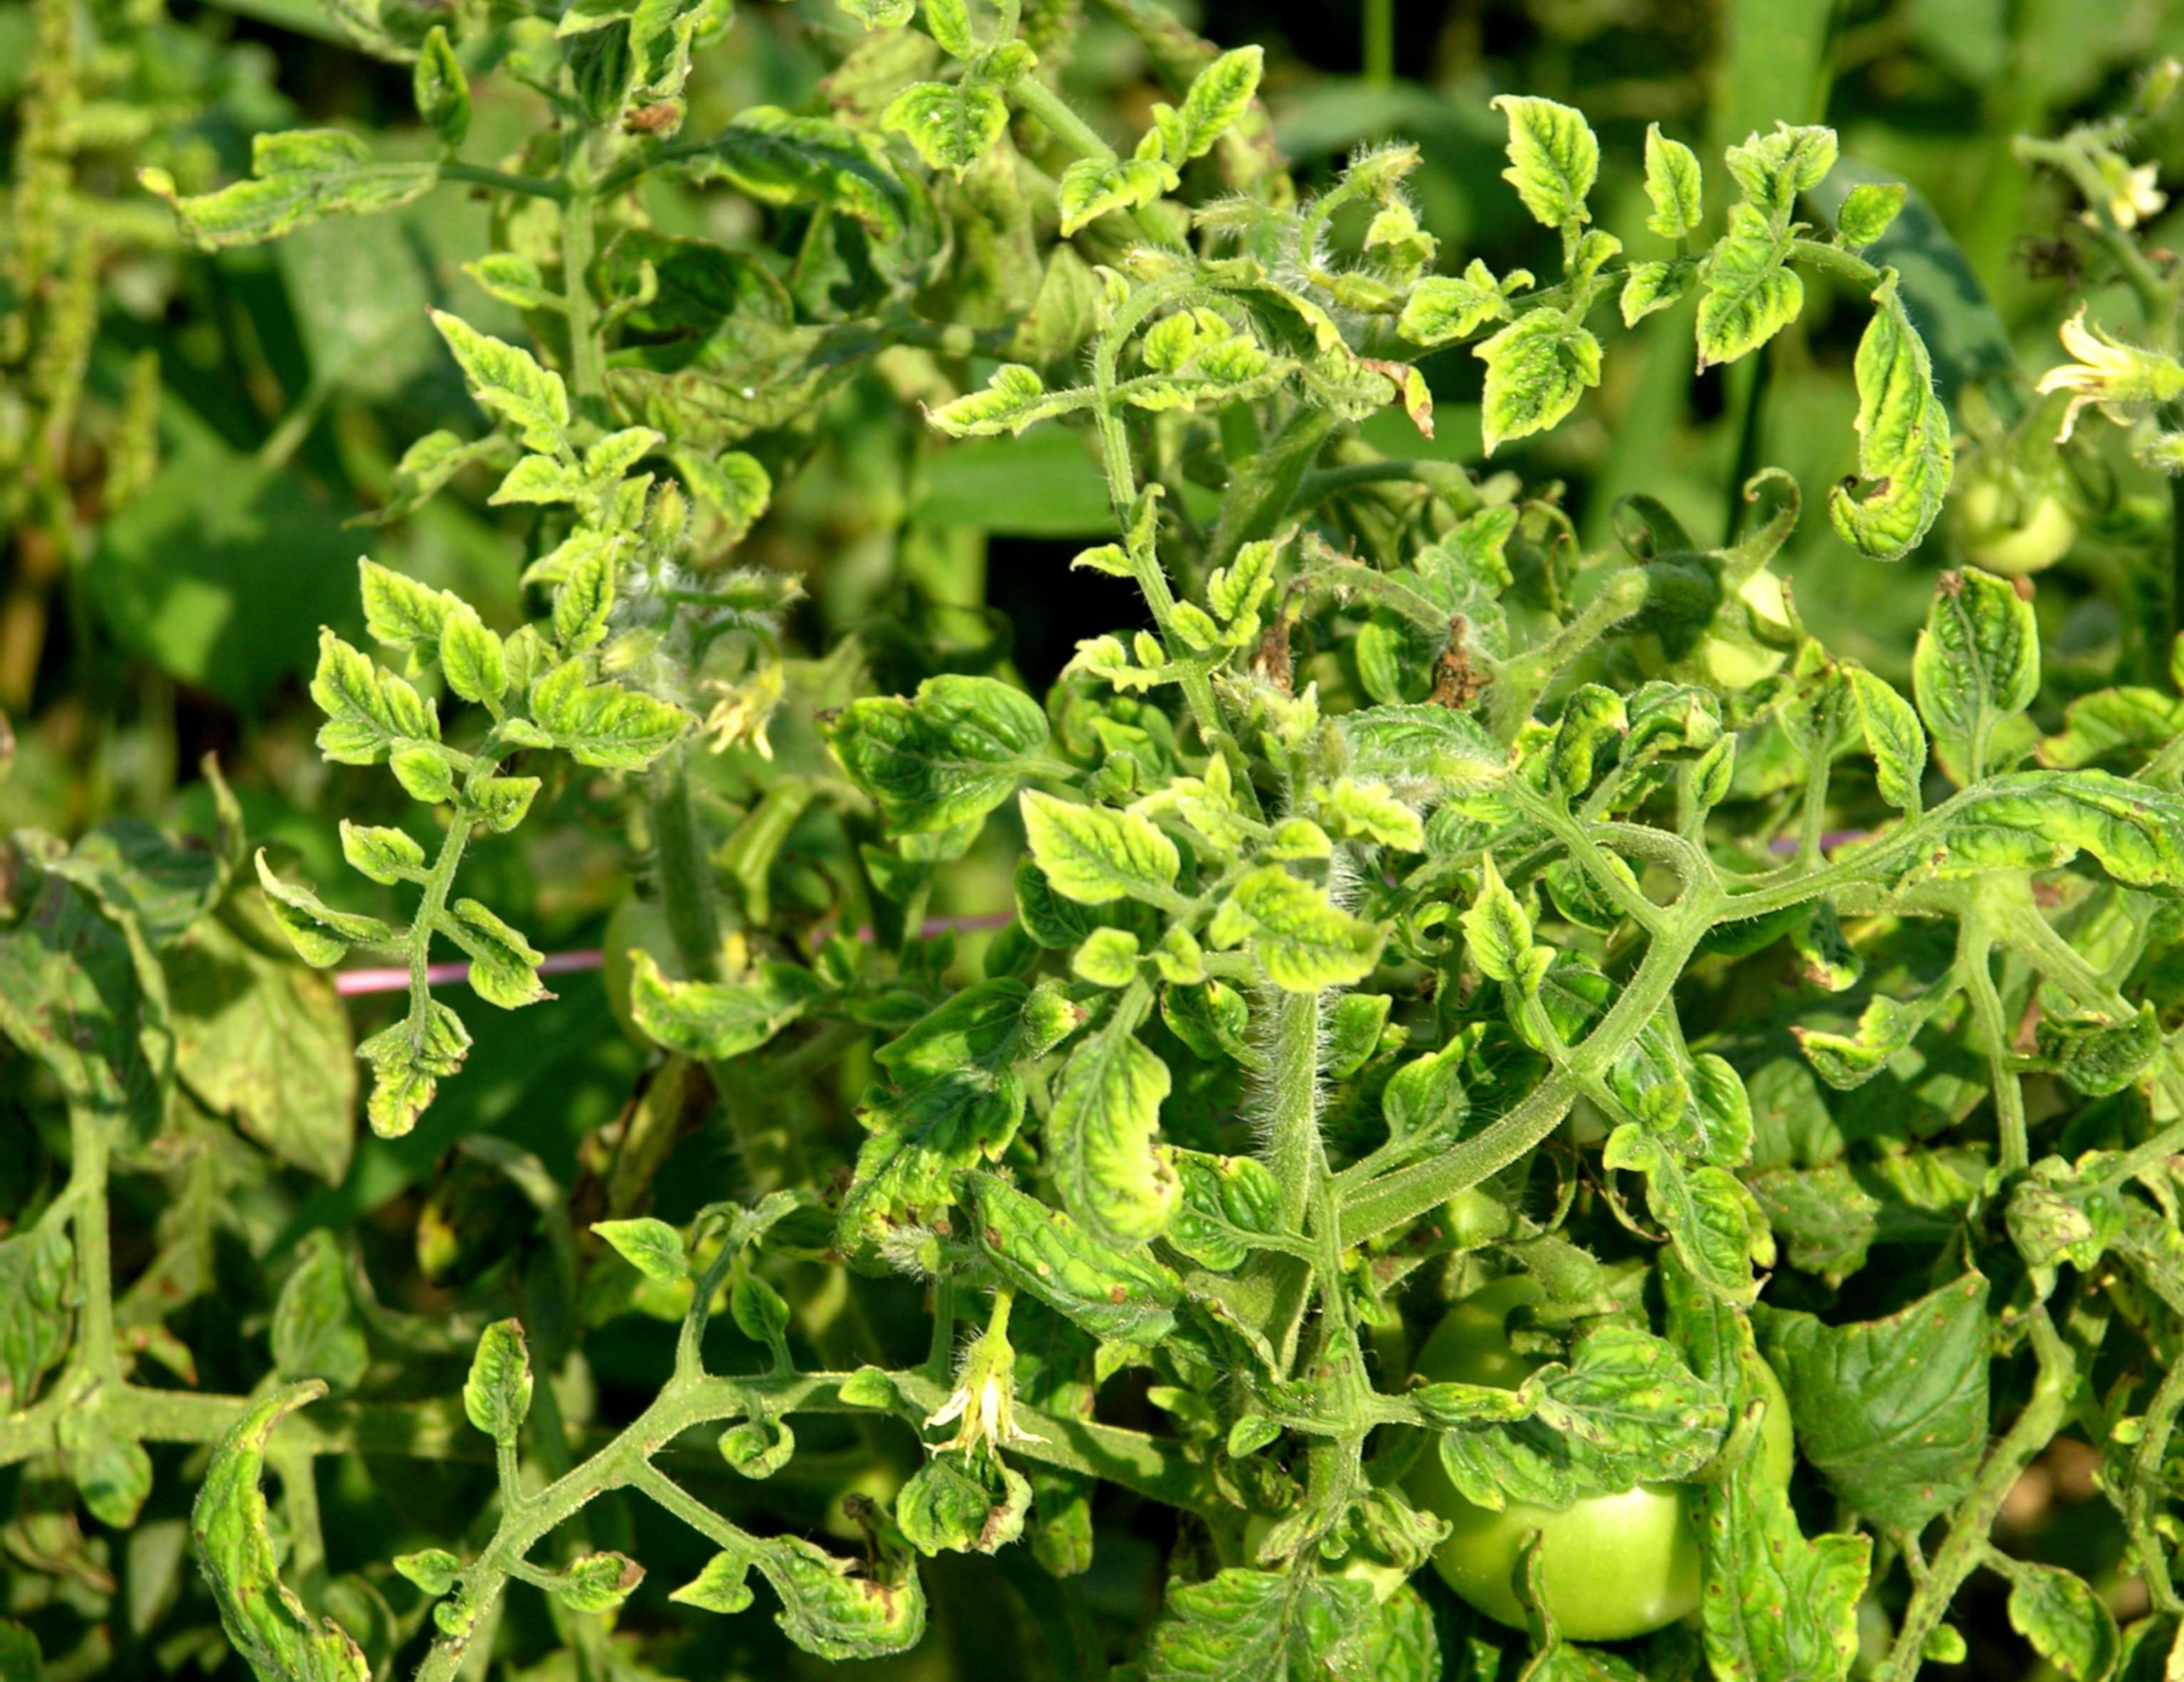Tomato leaf yellow virus: (1382, 1318, 1820, 1539), (125, 1428, 392, 1682), (774, 666, 1073, 862), (1133, 822, 1412, 1016), (1695, 1435, 1907, 1682), (942, 1150, 1179, 1366), (1619, 1094, 1797, 1371), (721, 1502, 947, 1682), (1822, 290, 1961, 581), (295, 634, 472, 846), (1670, 173, 1834, 399), (997, 753, 1193, 928), (1039, 1028, 1187, 1251), (1447, 292, 1608, 493), (1905, 565, 2044, 776), (1479, 62, 1631, 242), (343, 993, 505, 1161), (421, 300, 597, 451), (846, 65, 1014, 196), (1092, 300, 1297, 405), (903, 357, 1058, 477), (353, 557, 486, 661), (1046, 148, 1157, 263)
